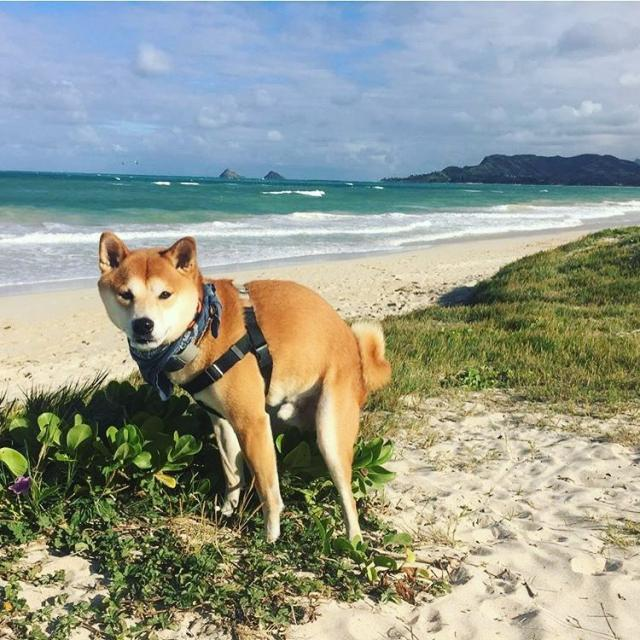squatting: (78, 226, 403, 561)
